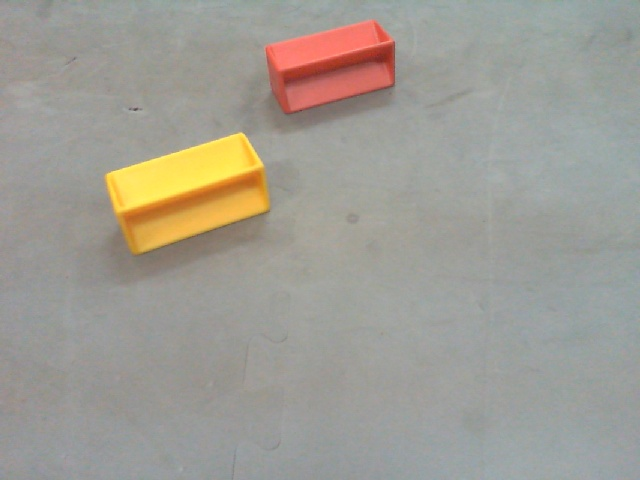RedSample: (265, 13, 398, 116)
YellowSample: (101, 130, 271, 258)
